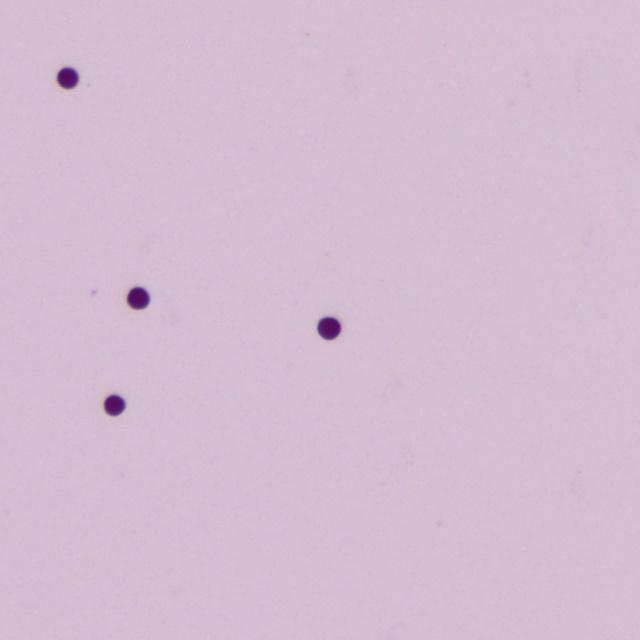viable: (318, 317, 340, 339), (127, 287, 149, 309), (57, 67, 78, 88), (104, 395, 125, 415)
